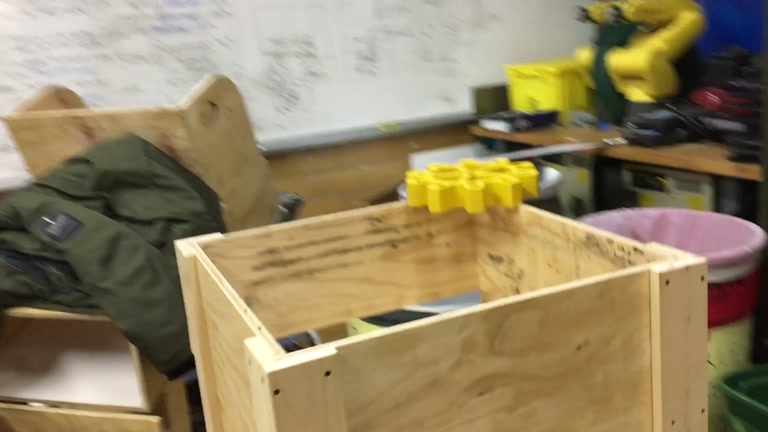gear: (403, 157, 537, 214)
